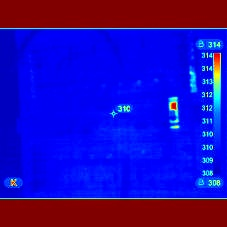Less: (170, 112, 179, 130)
